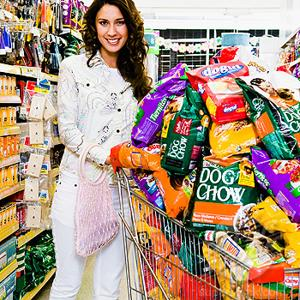person: (50, 2, 154, 299)
